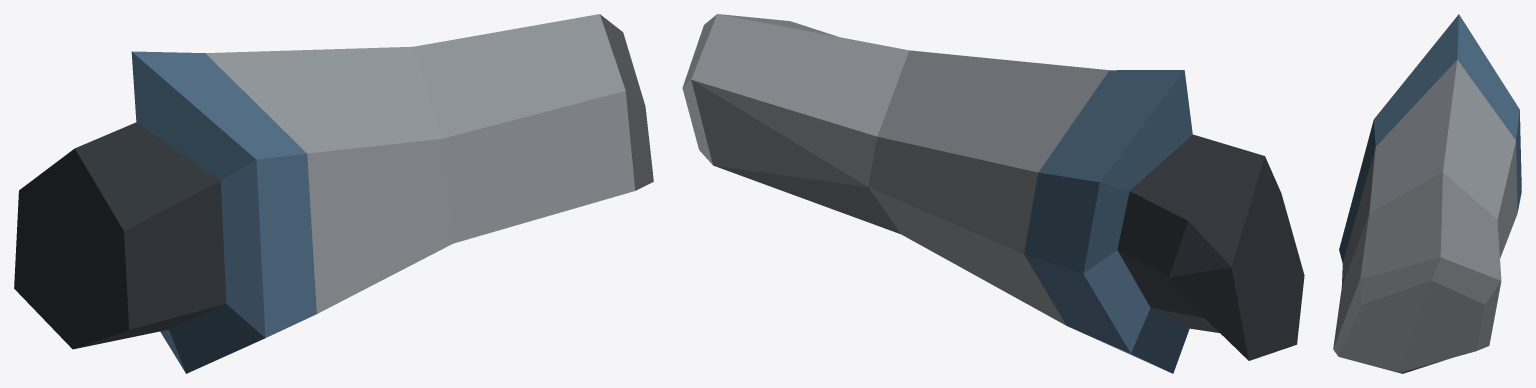
File: Chr_ArmLowerLeft_Female_07_Static.fbx
3 views of the same model, side by side, from view 1: azimuth 30°, elevation 25°; view 2: azimuth 150°, elevation 25°; view 3: azimuth 270°, elevation 25° (orthographic). The views are drawn at different scales.
Parts seen in each view (by area): view 1: Chr_ArmLowerLeft_Female_07_Static; view 2: Chr_ArmLowerLeft_Female_07_Static; view 3: Chr_ArmLowerLeft_Female_07_Static.
Boxes of the visible parts, x1,y1,x2,y2 form: Chr_ArmLowerLeft_Female_07_Static: (14, 14, 653, 373); Chr_ArmLowerLeft_Female_07_Static: (682, 14, 1304, 373); Chr_ArmLowerLeft_Female_07_Static: (1333, 14, 1521, 373).
Size of the model in its own units: 0.2944 by 0.1566 by 0.1013.
